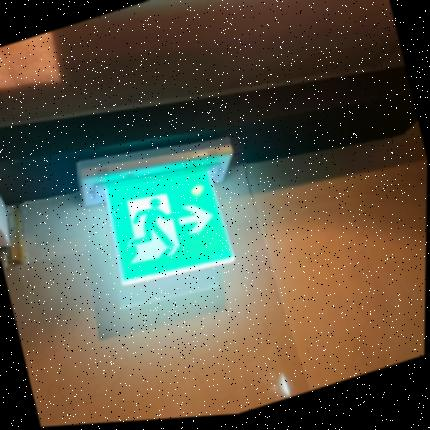emergency_exit: (76, 140, 237, 285)
